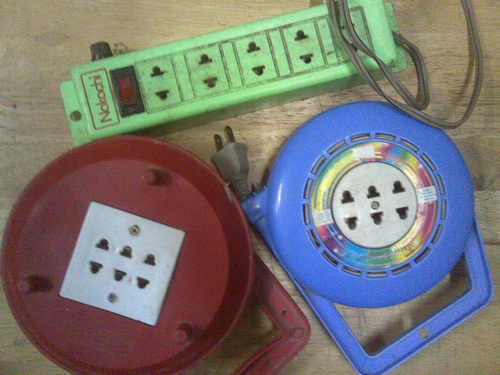Three_eye_plug: (238, 91, 497, 375), (4, 134, 290, 375), (63, 1, 409, 149)
